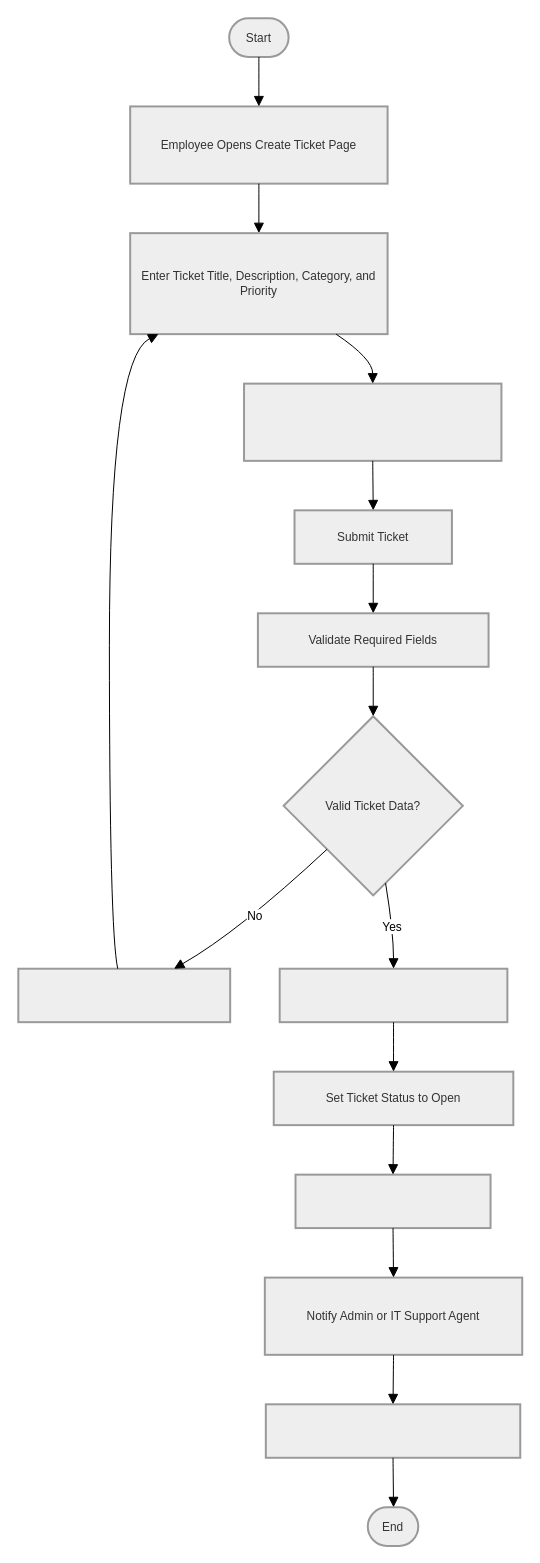
The diagram is 540 pixels wide and 1563 high, and some of its shapes have lost their labels. The shapes that lost their labels are listed below. From the top down, each one's centre as x and y in pixels, then its label:
At [372,421]: "Optional: Upload Attachment".
At [124,995]: "Show Validation Error".
At [393,995]: "Save Ticket in Database".
At [392,1201]: "Create Activity Log".
At [392,1430]: "Display Ticket in Ticket List".
